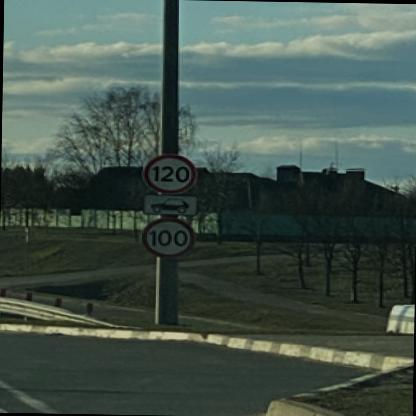speedlimit: (138, 216, 193, 258), (139, 153, 194, 193)
